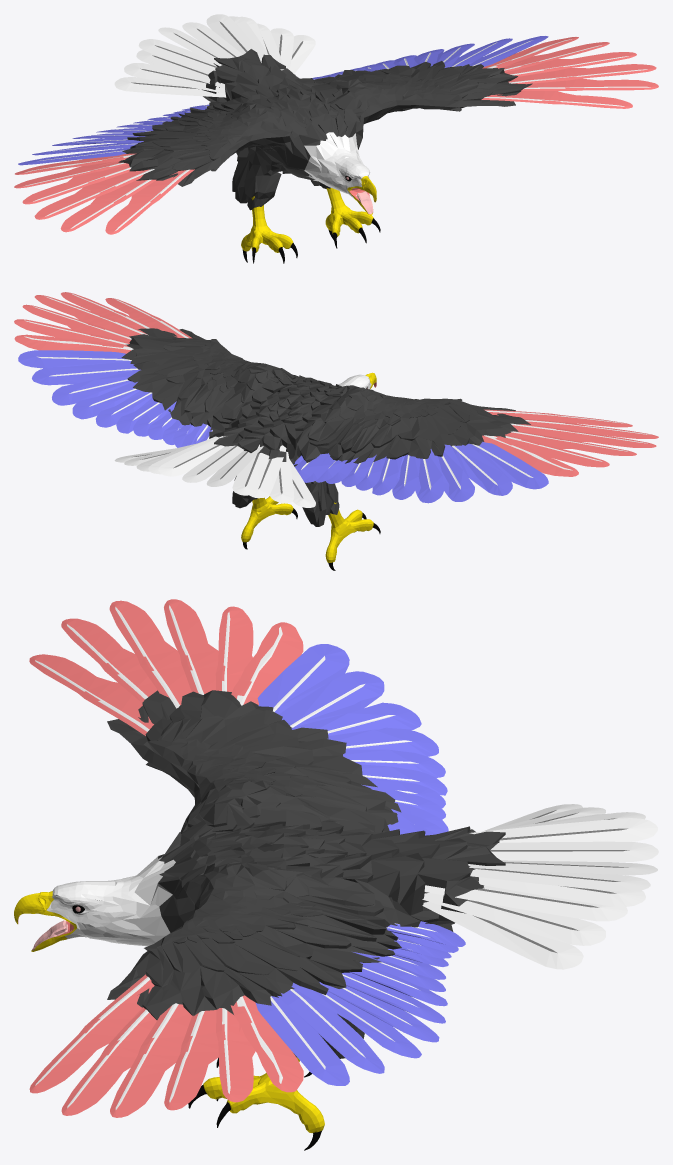
Rendered from eagle.obj.
3 renders of one model, top to bottom at view 1: azimuth 30°, elevation 25°; view 2: azimuth 150°, elevation 25°; view 3: azimuth 270°, elevation 25°, orthographic. The views are drawn at different scales.
Bounding box in the file's own units: 7.61 × 1.99 × 4.01.
